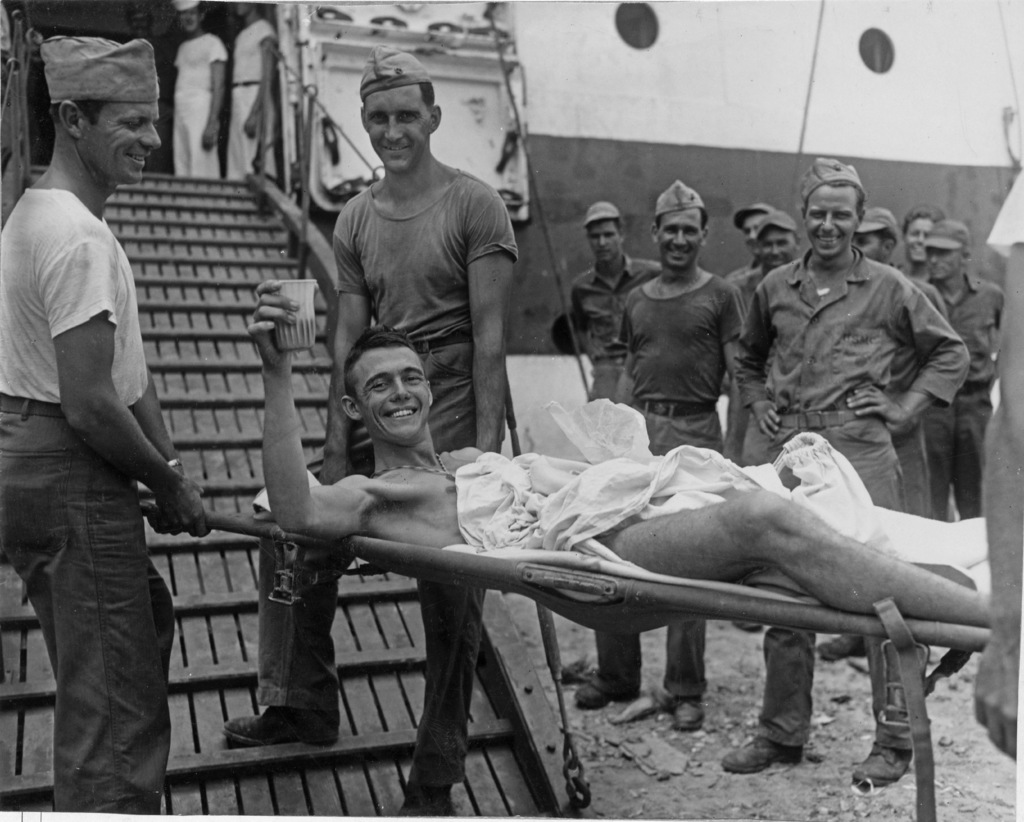Person: (0, 0, 1023, 820)
